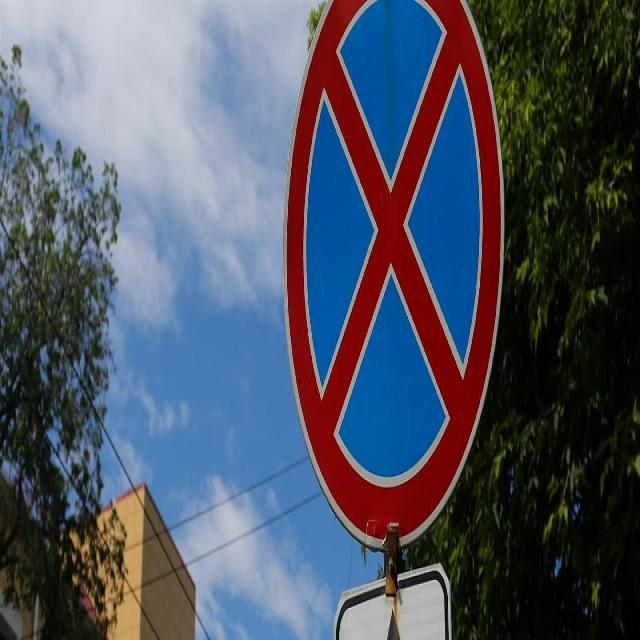no stopping: (279, 0, 509, 557)
